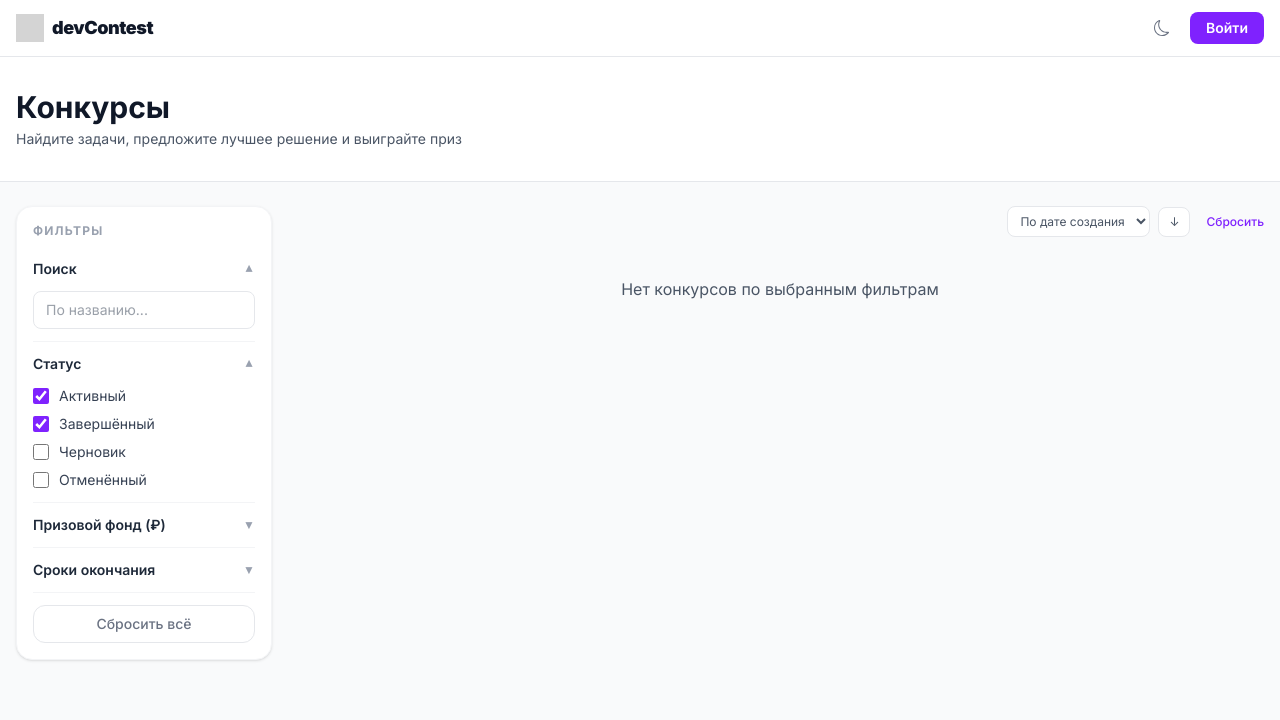
Авторизация и регистрация › отображает форму регистрации с выбором роли
The image size is (1280, 720).
Click the button "Войти" at (1227, 28), box x1=1190 y1=12 x2=1264 y2=44
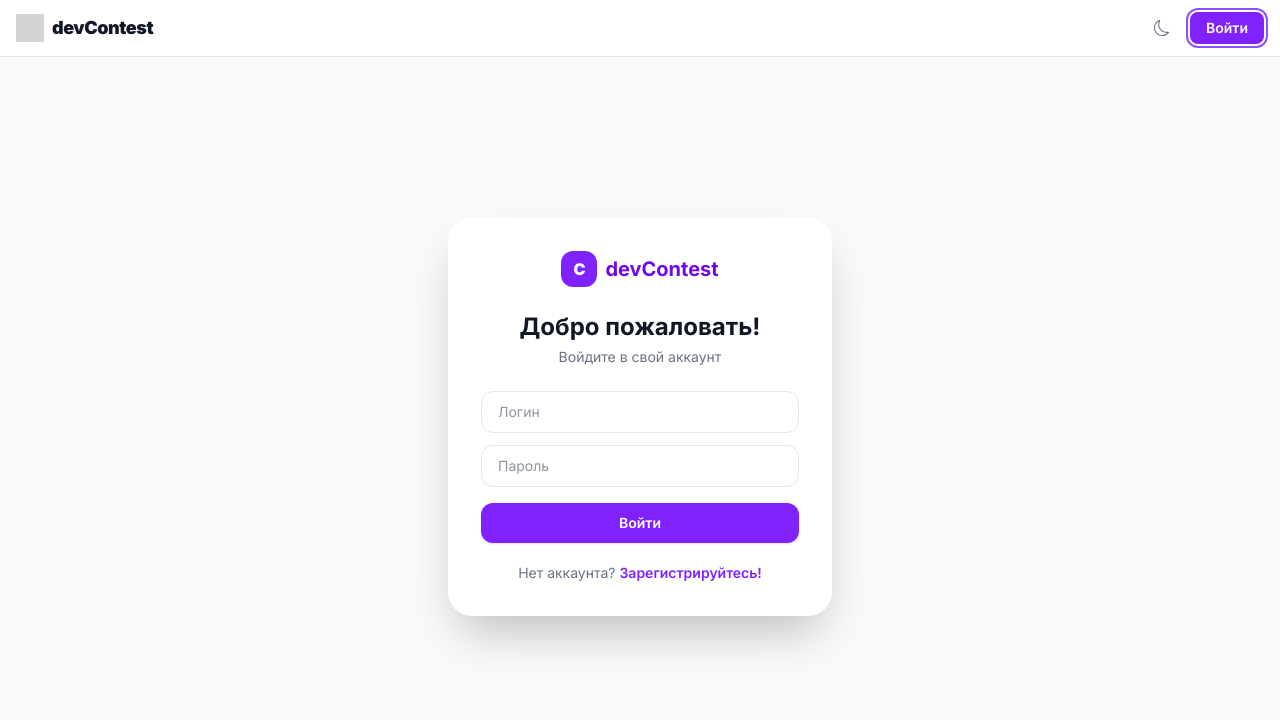
Click the link "Зарегистрируйтесь!" at (690, 573), box x1=619 y1=564 x2=761 y2=581
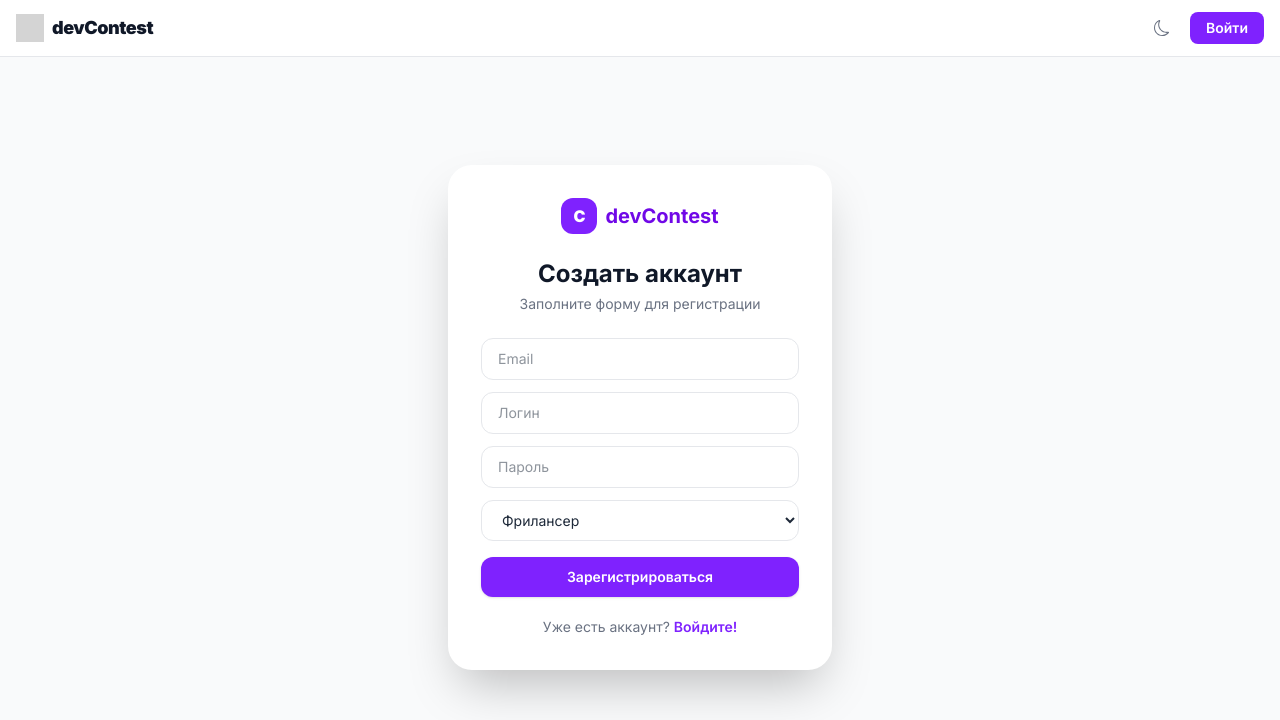
Expected: the heading "Создать аккаунт" is shown, x1=538 y1=258 x2=742 y2=288
Expected: the field with placeholder "Email" is shown, x1=481 y1=338 x2=799 y2=380
Expected: the dropdown is shown, x1=481 y1=500 x2=799 y2=541
